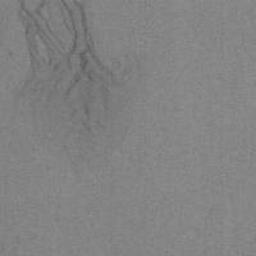Water spot: (13, 0, 152, 177)
